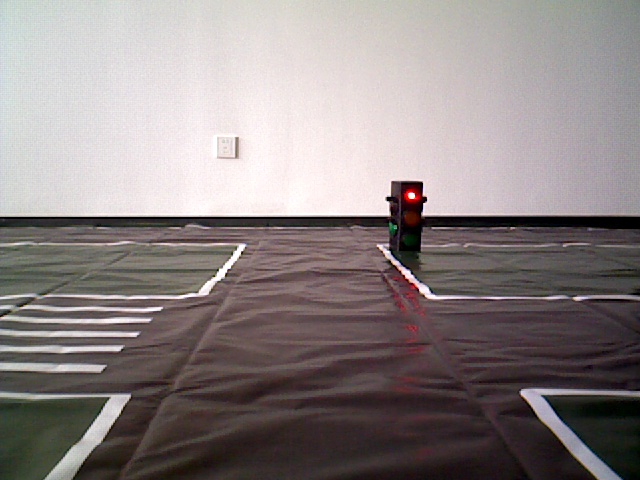red: (388, 185, 423, 256)
